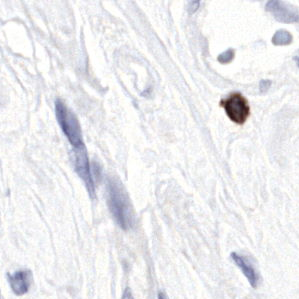Lymphocyte: (222, 91, 252, 125)
